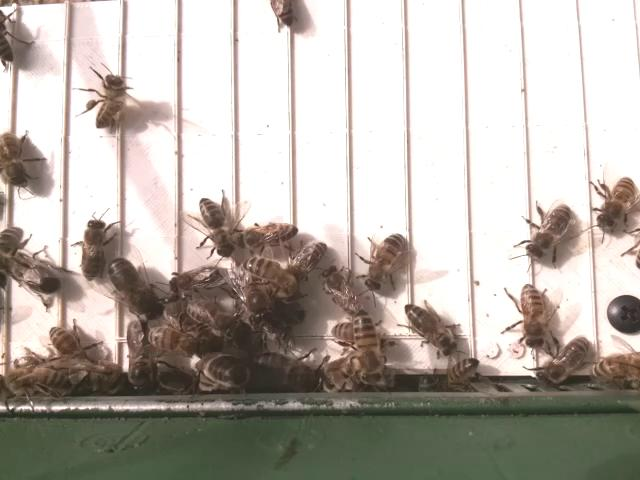Drone: (105, 255, 168, 323)
Worker: (404, 301, 458, 356), (364, 230, 410, 294), (524, 205, 572, 263), (196, 194, 237, 261), (594, 175, 636, 235), (352, 306, 381, 387), (90, 72, 127, 133), (518, 279, 547, 353), (236, 218, 301, 250), (78, 218, 109, 283), (0, 128, 30, 191)
